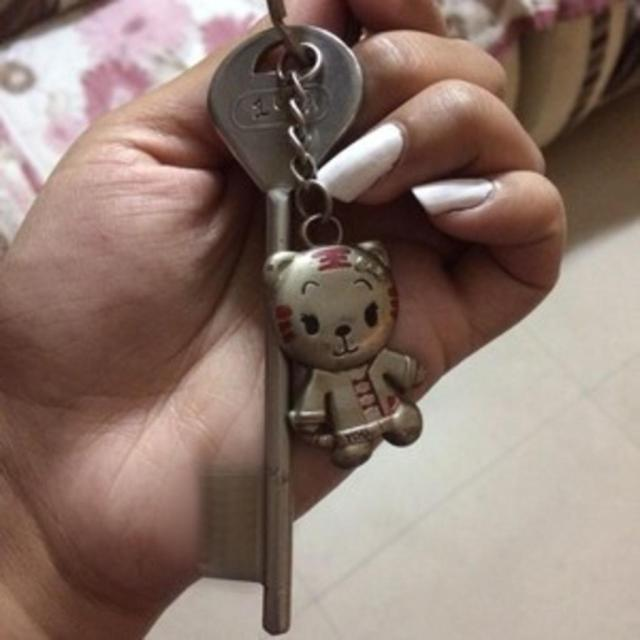Frontdoor keys: (202, 22, 367, 637)
